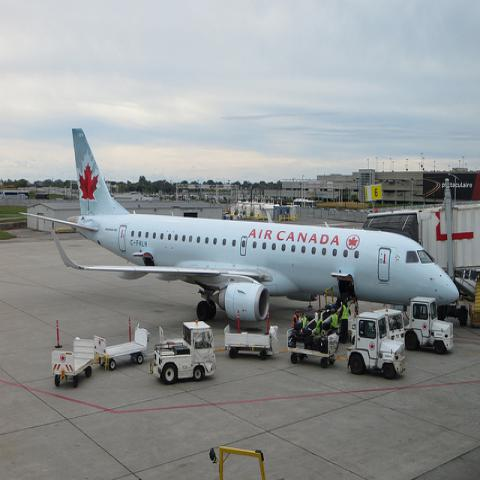truck: (150, 321, 217, 385), (348, 312, 406, 378), (402, 293, 454, 354)
